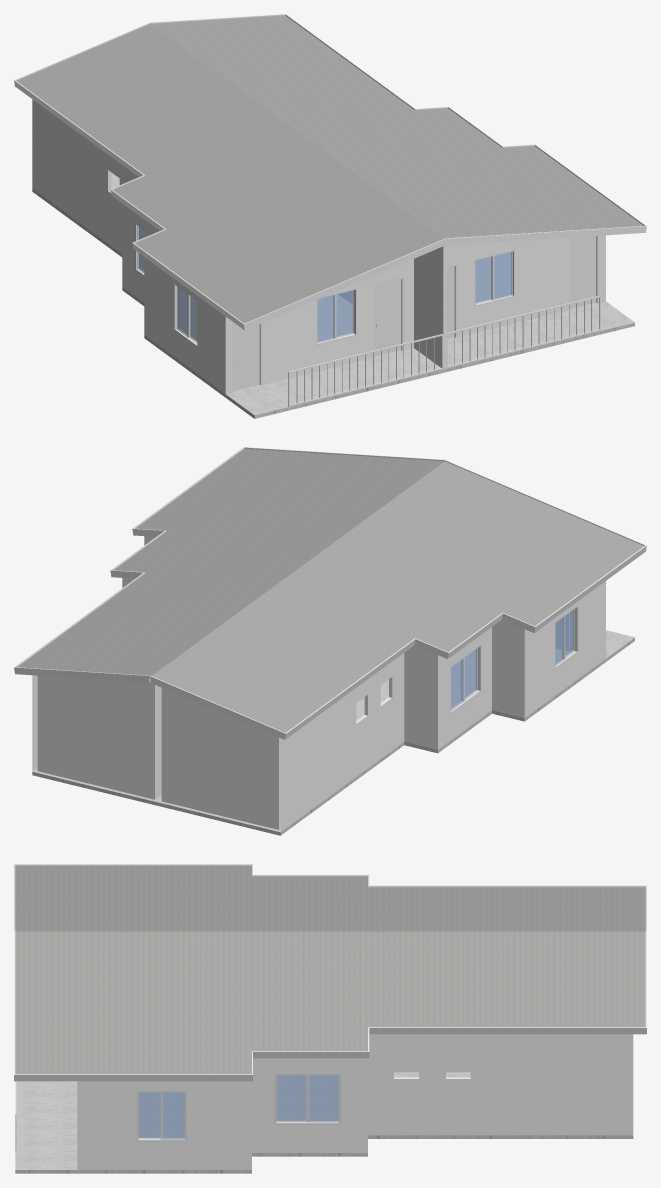
Rendered from house_5.glb.
3 renders of one model, top to bottom at view 1: azimuth 30°, elevation 25°; view 2: azimuth 150°, elevation 25°; view 3: azimuth 270°, elevation 25°, orthographic. The views are drawn at different scales.
Parts seen in each view (by area): view 1: house_5; view 2: house_5; view 3: house_5.
Part boxes in pixels (x1,y1,x2,y2): house_5: (14, 14, 646, 418); house_5: (14, 447, 646, 835); house_5: (14, 864, 646, 1173).
Bounding box in the file's own units: 12.01 × 3.82 × 15.25.
7 materials, 2 textured.
